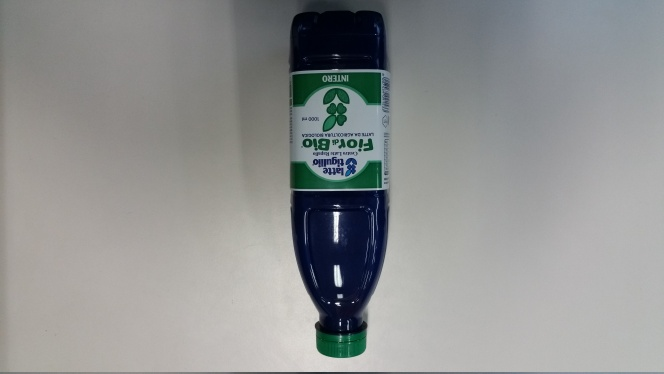bottle: (279, 14, 396, 362)
